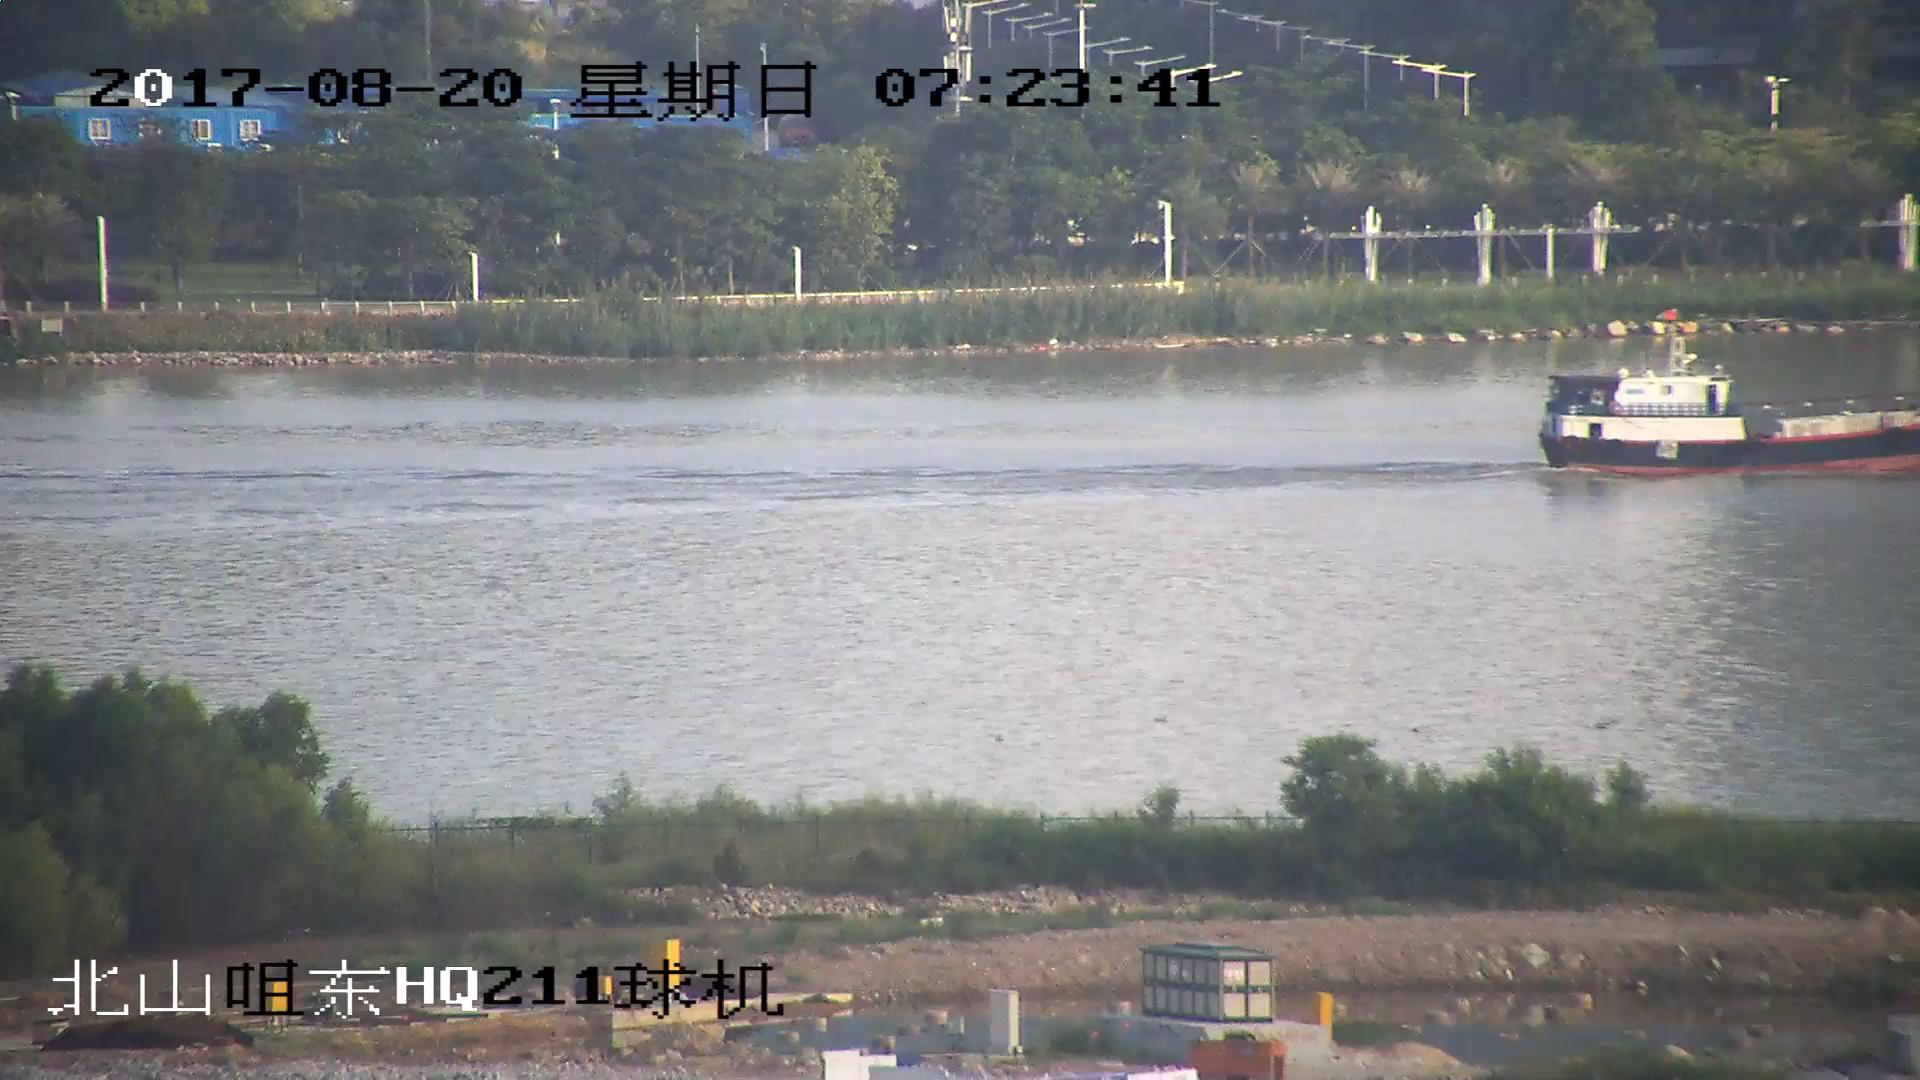fishing boat: (1543, 338, 1920, 479)
